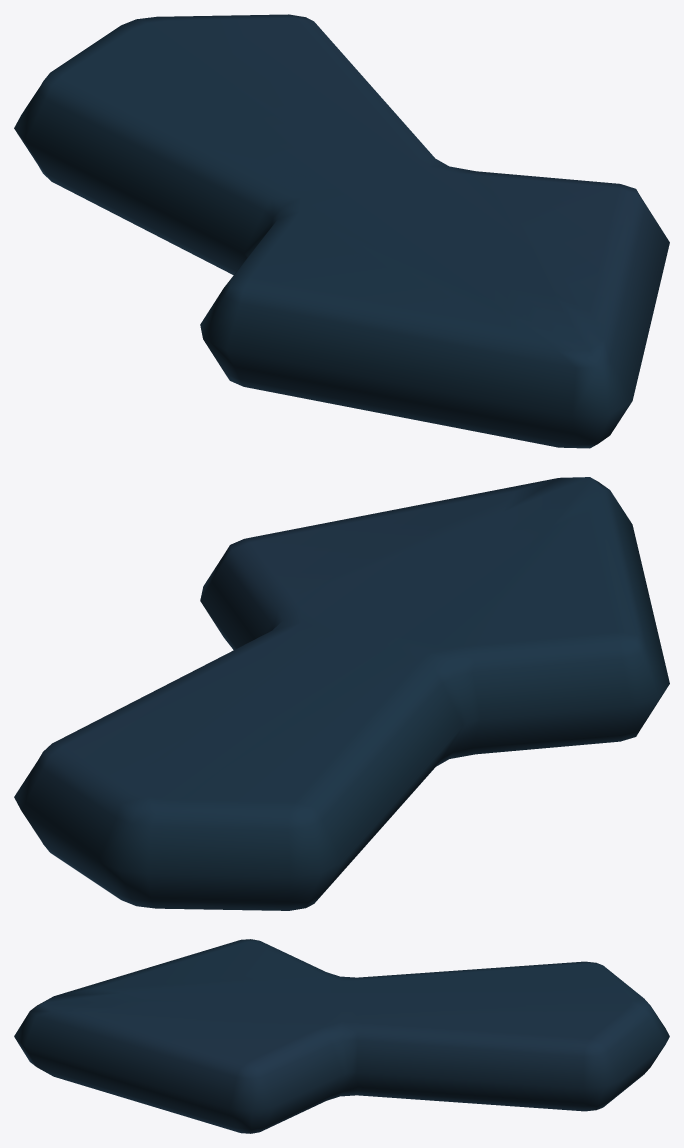
Rendered from arrow_mesh.fbx.
The picture shows the model from 3 angles, top to bottom: view 1: azimuth 30°, elevation 25°; view 2: azimuth 150°, elevation 25°; view 3: azimuth 270°, elevation 25°; orthographic projection. The views are drawn at different scales.
Parts seen in each view (by area): view 1: arrow02; view 2: arrow02; view 3: arrow02.
Part boxes in pixels (<box>): arrow02: <box>14,14,669,448</box>; arrow02: <box>14,477,669,910</box>; arrow02: <box>14,939,669,1133</box>.
Size of the model in its own units: 2.66 by 0.5865 by 4.95.
